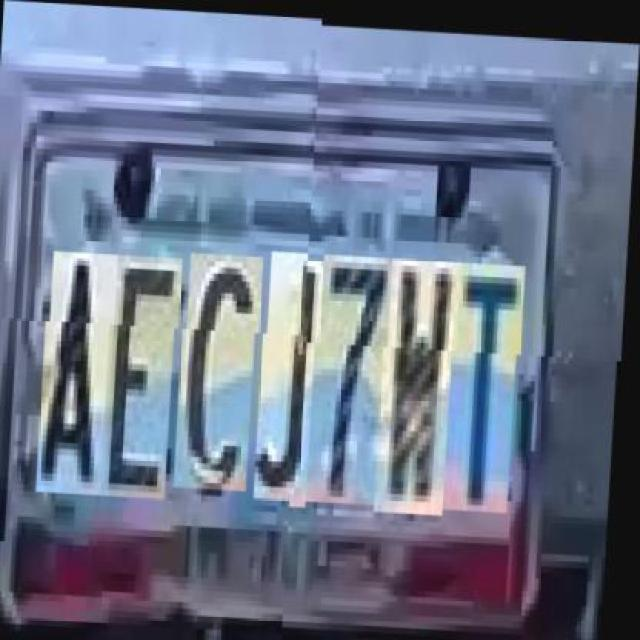7: (316, 250, 396, 501)
a: (45, 256, 122, 501)
c: (183, 256, 266, 495)
e: (110, 259, 185, 504)
j: (263, 254, 328, 503)
t: (452, 256, 530, 507)
w: (384, 253, 464, 510)
